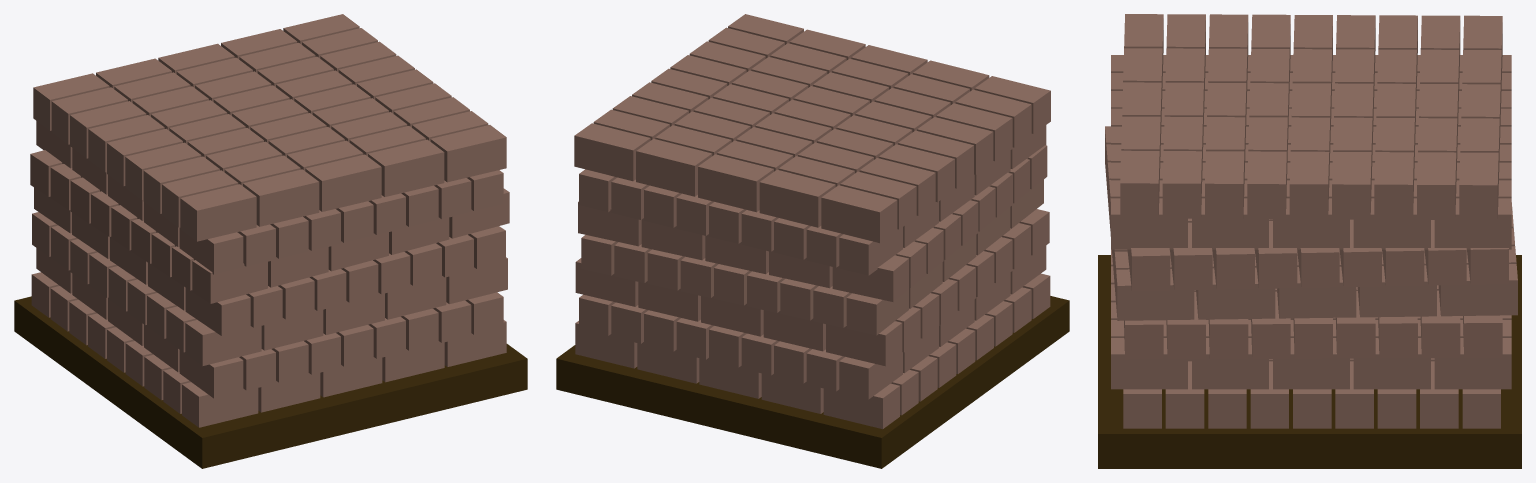
Rendered from BrickPallet.fbx.
3 renders of one model, left to right at view 1: azimuth 30°, elevation 25°; view 2: azimuth 150°, elevation 25°; view 3: azimuth 270°, elevation 25°, orthographic. The views are drawn at different scales.
Parts seen in each view (by area): view 1: Cube; view 2: Cube; view 3: Cube.
Boxes of the visible parts, left/top/right/bottom form: Cube: left=14, top=14, right=527, bottom=468; Cube: left=556, top=14, right=1069, bottom=468; Cube: left=1098, top=14, right=1521, bottom=468.
Size of the model in its own units: 220 by 160 by 220.
